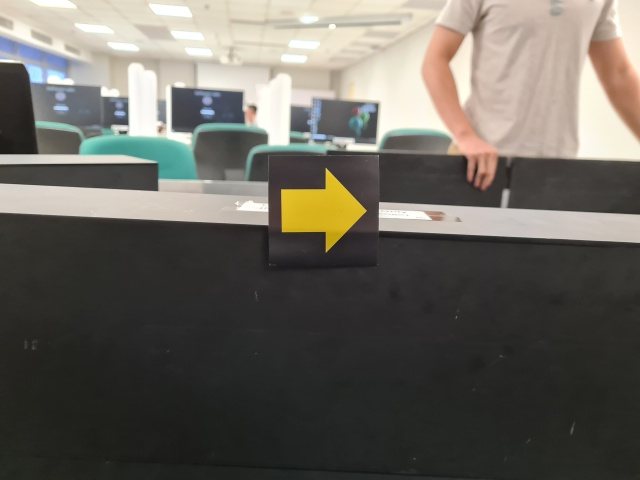right_arrow: (267, 154, 379, 266)
